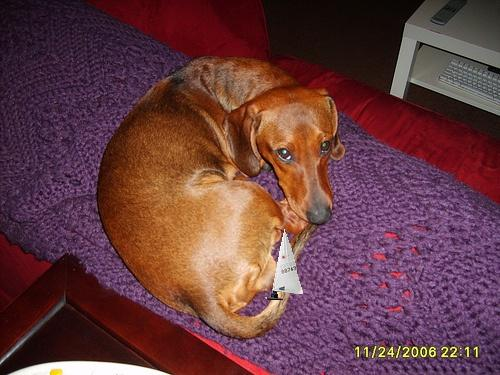tampered: (266, 230, 303, 300)
